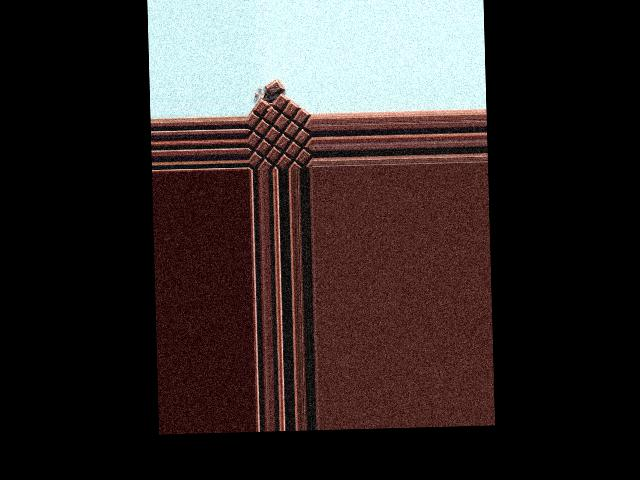chocolate: (247, 87, 310, 170)
